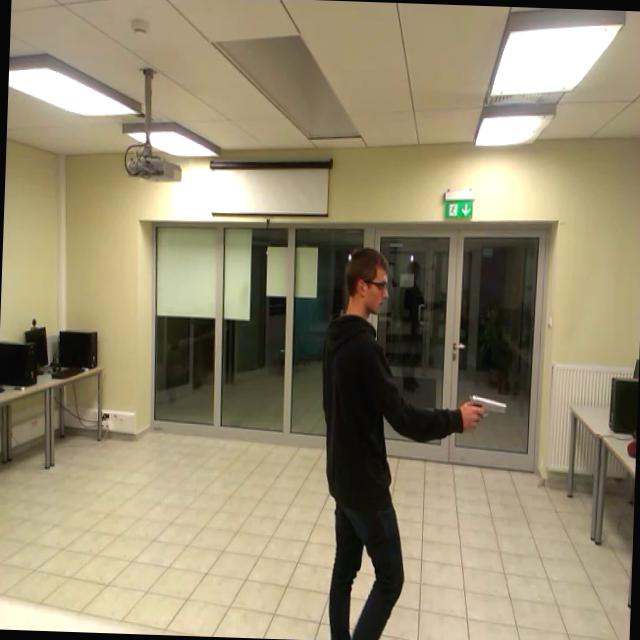handgun: (466, 382, 518, 438)
